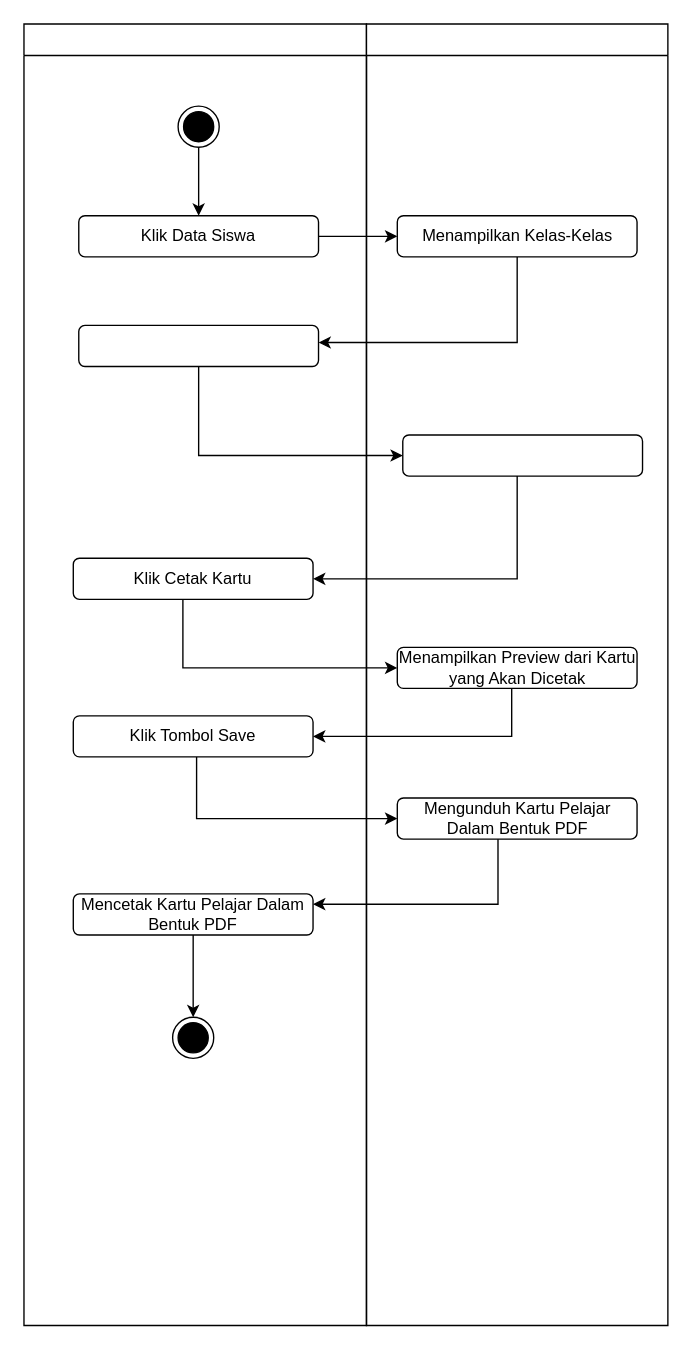
The diagram is 692 pixels wide and 1349 high, and some of its shapes have lost their labels. Here are the shapes that lost their labels. From the top down, the box of each, then its label:
(77, 324, 319, 366): Pilih Kelas
(401, 434, 643, 476): Menampilkan Data Siswa dari Kelas yang Dipilih
(23, 23, 366, 1325): Aktor
(365, 23, 668, 1325): Sistem
